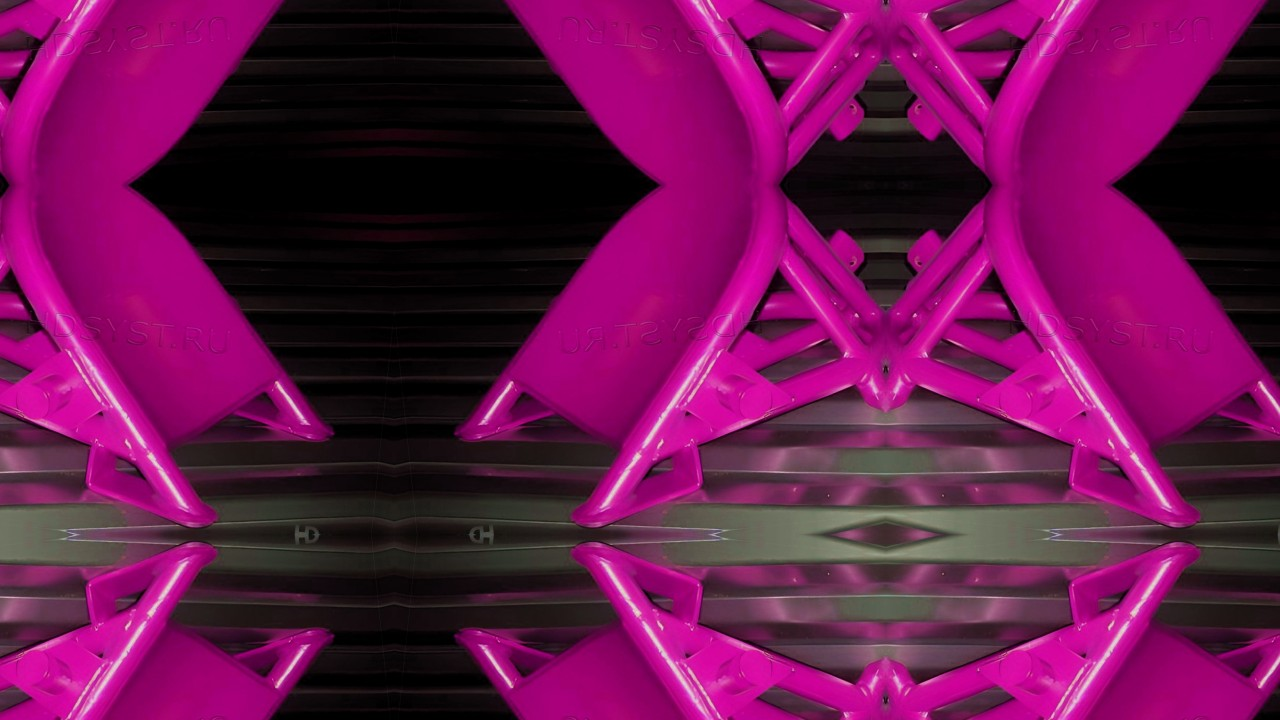chock: (424, 185, 886, 535), (886, 185, 1280, 535), (0, 185, 364, 535), (424, 0, 886, 185), (424, 535, 886, 720), (886, 0, 1280, 185), (886, 535, 1280, 720), (0, 0, 364, 185), (0, 535, 364, 720)
